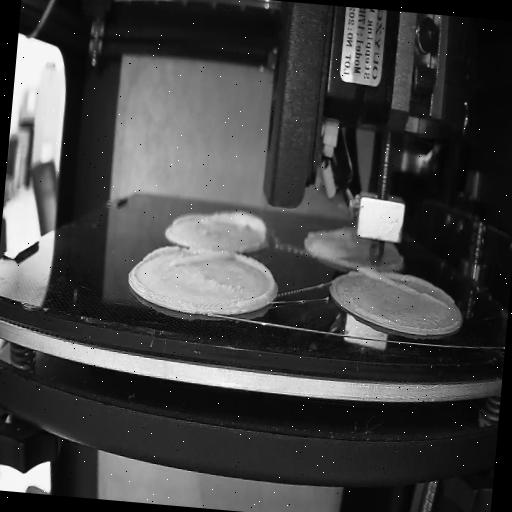over_extrusion: (355, 266, 453, 310), (229, 253, 279, 311), (142, 243, 232, 270), (208, 208, 270, 245), (173, 211, 200, 228)
